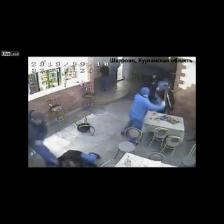person: (122, 87, 165, 135), (28, 110, 58, 166), (58, 150, 100, 167), (100, 65, 109, 91)
